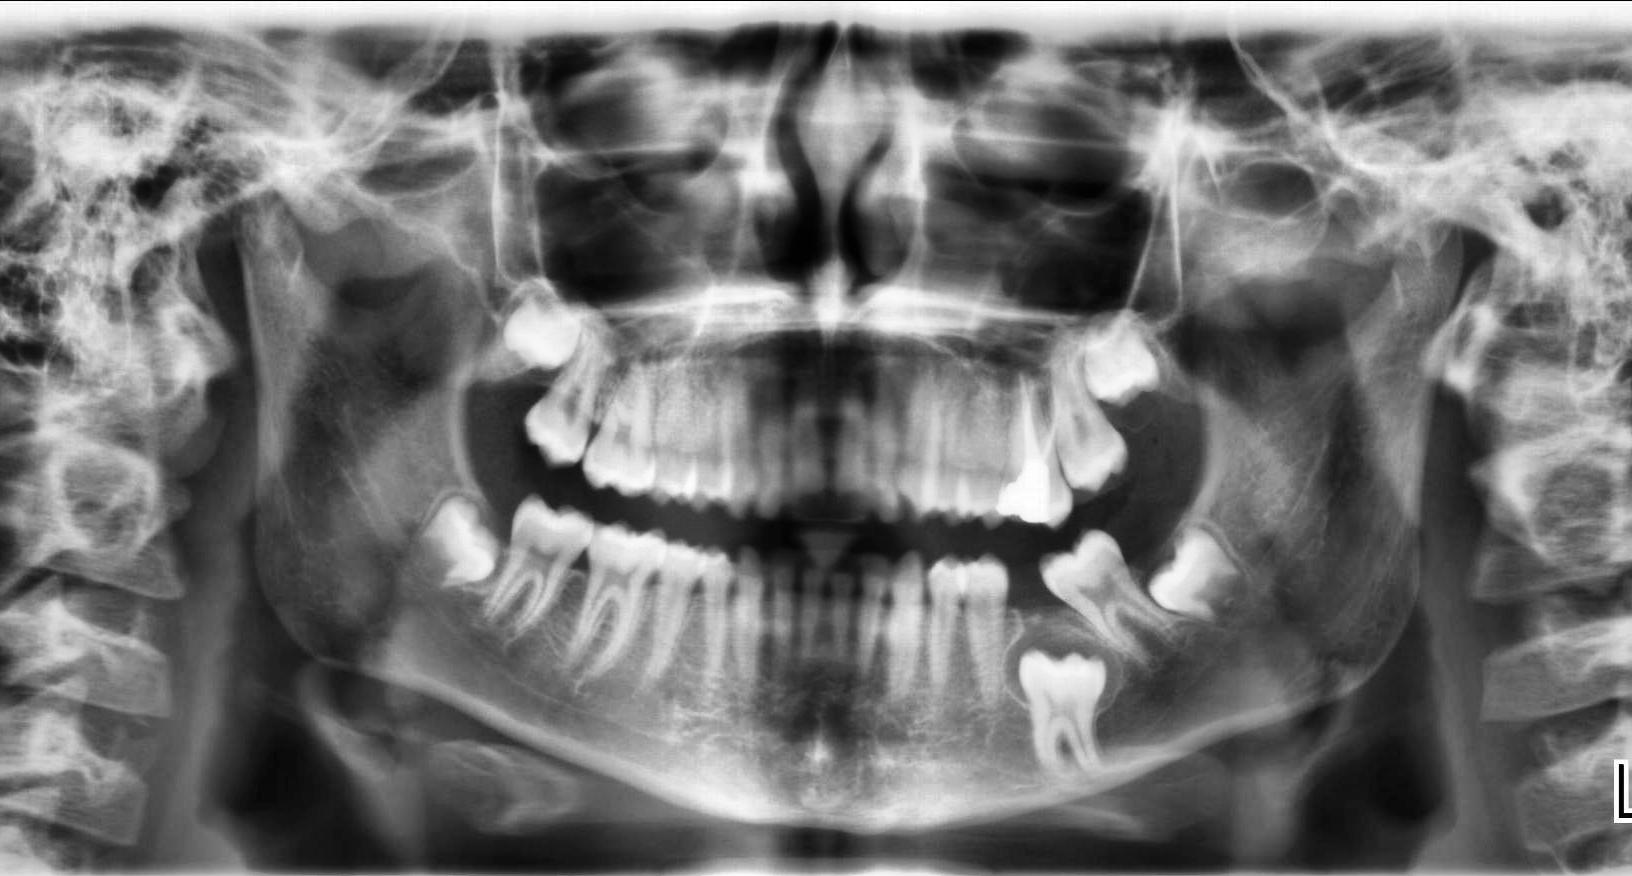dentigeroz: (1000, 620, 1124, 713)
